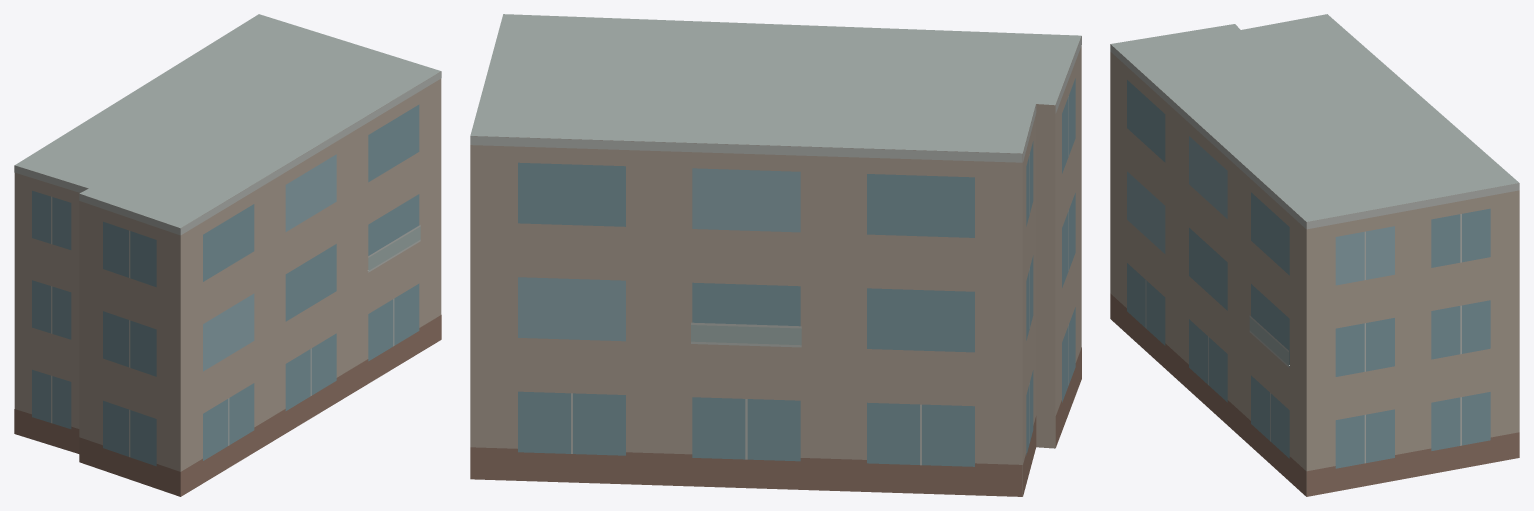
The model's file is survey-upis-33030104.glb.
3 views of the same model, side by side, from view 1: azimuth 30°, elevation 25°; view 2: azimuth 150°, elevation 25°; view 3: azimuth 270°, elevation 25° (orthographic). The views are drawn at different scales.
Parts seen in each view (by area): view 1: survey-upis-33030104.tmp; view 2: survey-upis-33030104.tmp; view 3: survey-upis-33030104.tmp.
Part boxes in pixels (x1,y1,x2,y2): survey-upis-33030104.tmp: (14, 14, 441, 496); survey-upis-33030104.tmp: (470, 14, 1081, 496); survey-upis-33030104.tmp: (1110, 14, 1519, 496).
Size of the model in its own units: 14.78 by 9.1 by 12.29.
